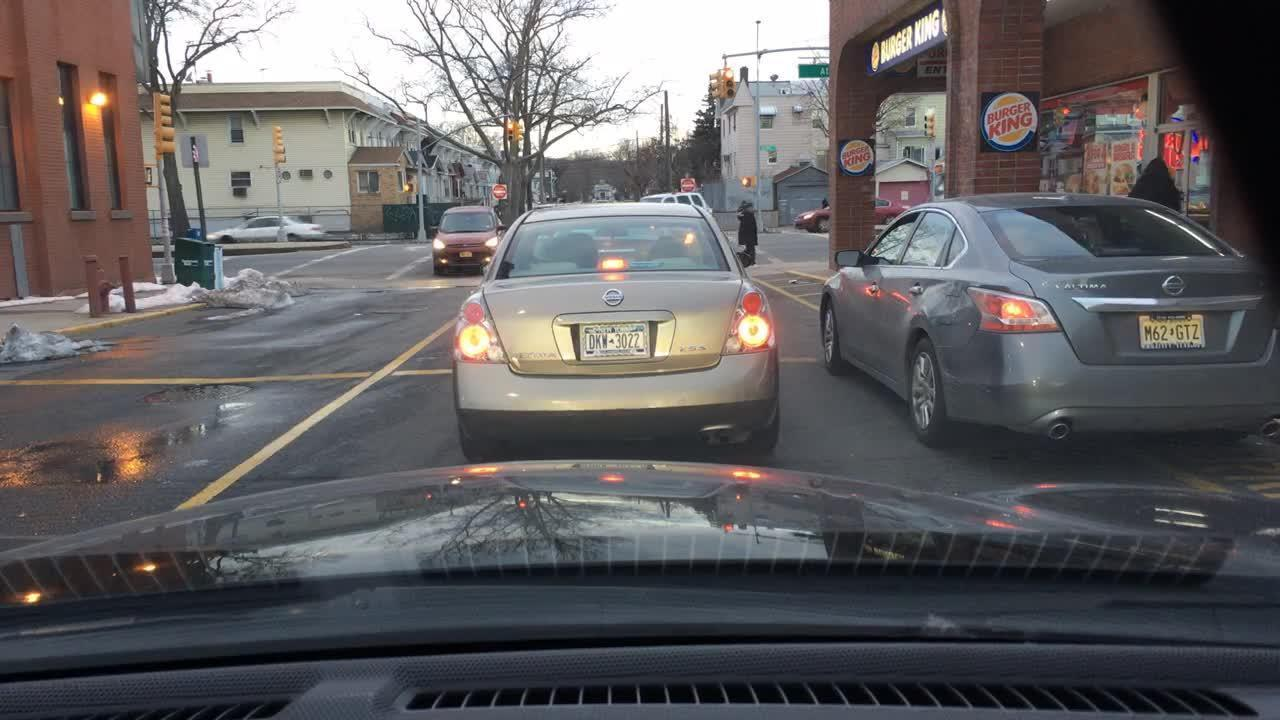Nissan: (1158, 270, 1190, 301), (598, 284, 627, 311)
